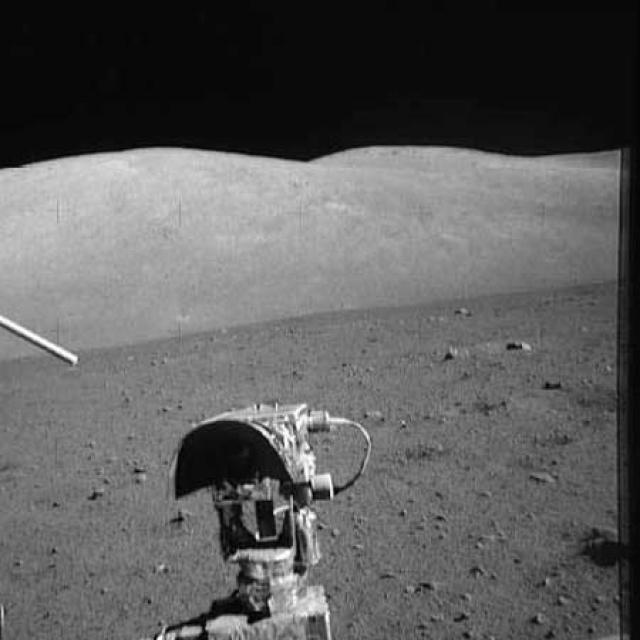artifact: (135, 391, 383, 639), (0, 305, 83, 379)
crater: (557, 377, 624, 419)
rock: (577, 516, 631, 566), (503, 331, 530, 359), (451, 303, 476, 324)
